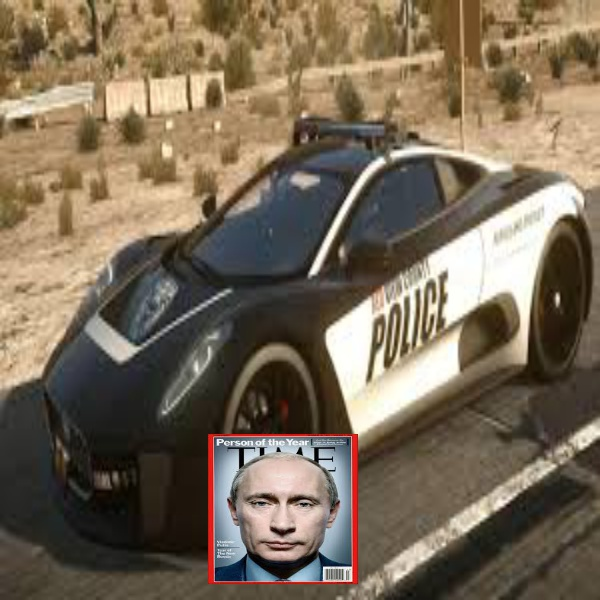time_cover: (208, 430, 354, 574)
